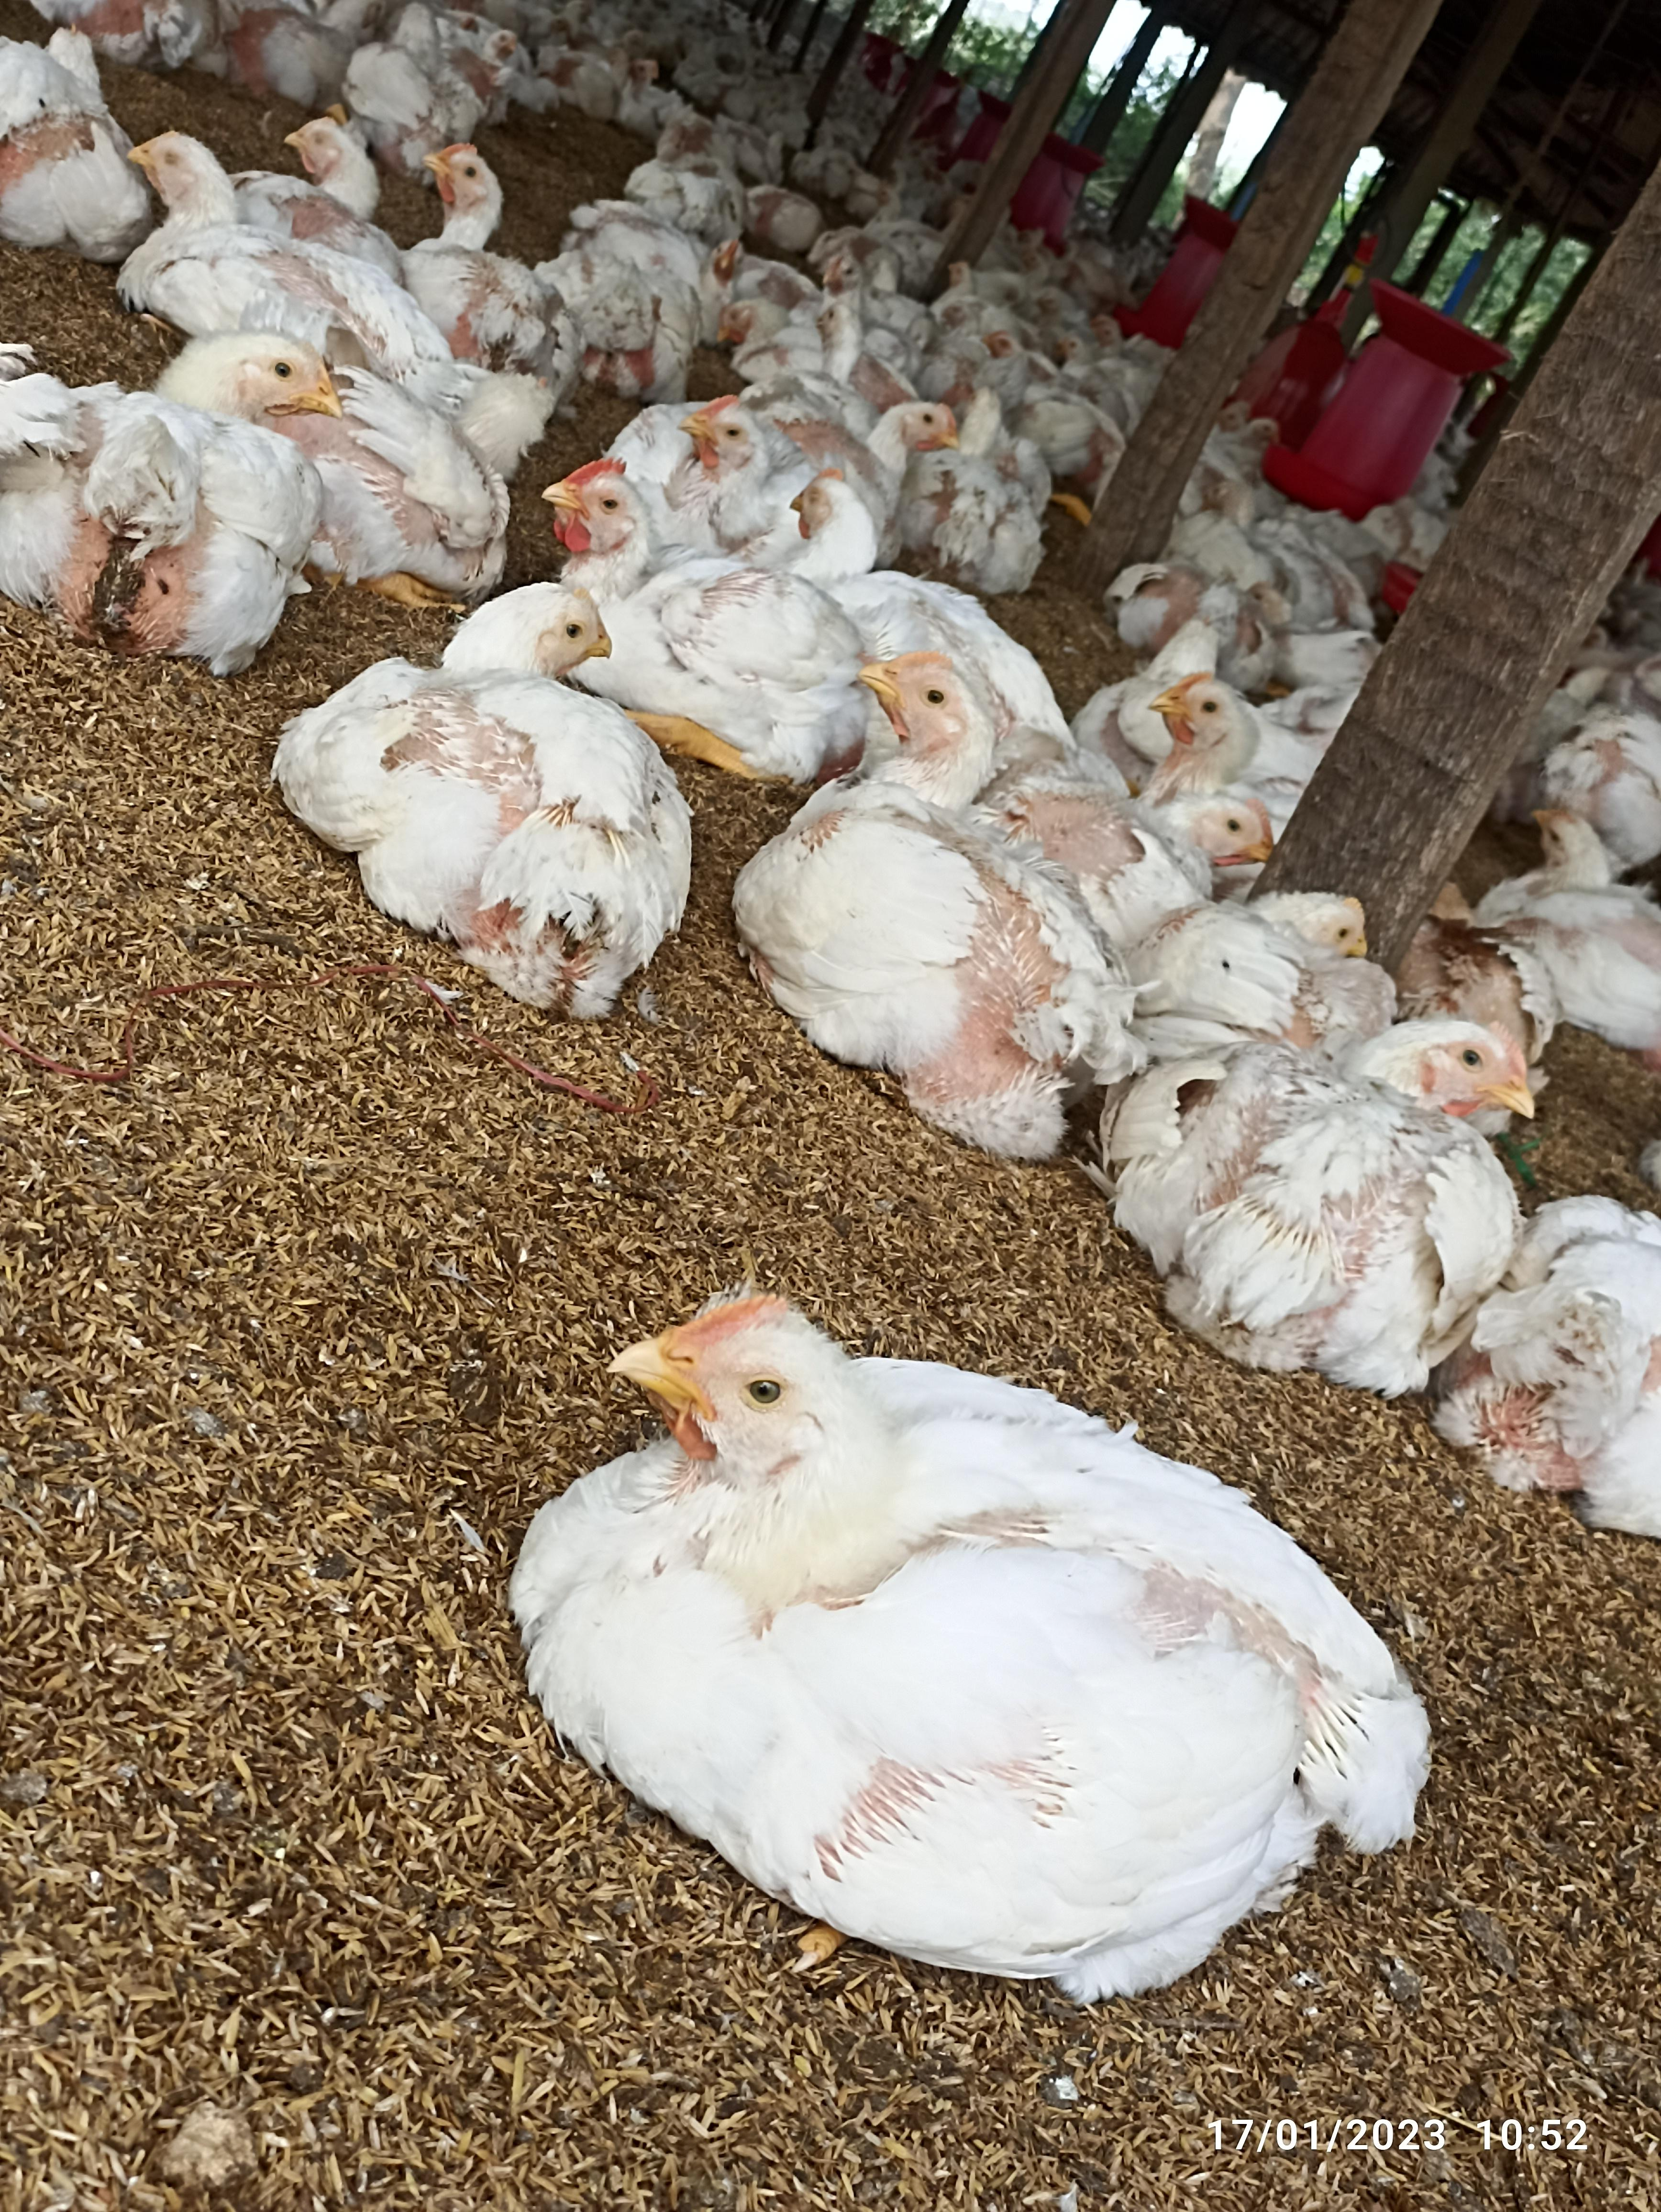Pollos: (544, 1282, 1378, 1973), (302, 581, 684, 998), (771, 647, 1064, 1150), (1118, 1015, 1534, 1329), (0, 330, 338, 672), (305, 368, 569, 553), (106, 126, 349, 314), (417, 131, 586, 358), (684, 387, 886, 567), (548, 455, 656, 600)
